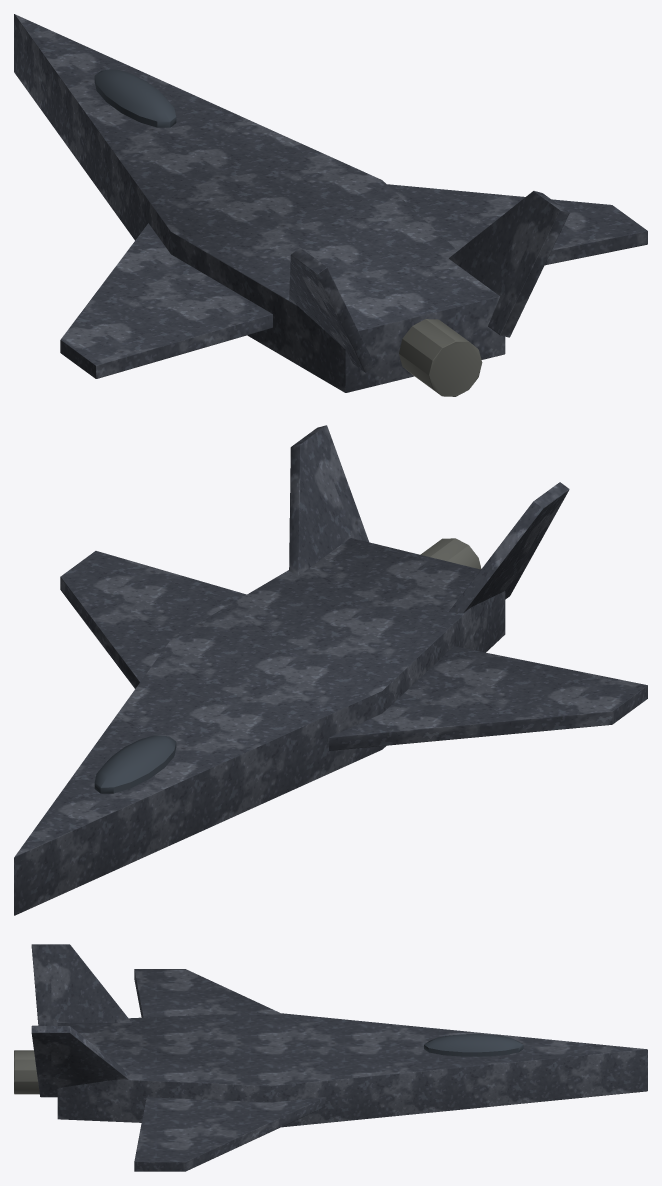
The model's file is air_e4_us_stealth_LOD1.glb.
3 views of the same model, one above another, from view 1: azimuth 30°, elevation 25°; view 2: azimuth 150°, elevation 25°; view 3: azimuth 270°, elevation 25° (orthographic). The views are drawn at different scales.
Visible parts, largest first — view 1: air_e4_us_stealth_LOD1_body, air_e4_us_stealth_LOD1_gun, air_e4_us_stealth_LOD1_glass; view 2: air_e4_us_stealth_LOD1_body, air_e4_us_stealth_LOD1_glass, air_e4_us_stealth_LOD1_gun; view 3: air_e4_us_stealth_LOD1_body, air_e4_us_stealth_LOD1_glass, air_e4_us_stealth_LOD1_gun.
Part boxes in pixels (x1,y1,x2,y2): air_e4_us_stealth_LOD1_body: (14, 14, 647, 392); air_e4_us_stealth_LOD1_gun: (399, 319, 482, 396); air_e4_us_stealth_LOD1_glass: (94, 69, 176, 127); air_e4_us_stealth_LOD1_body: (14, 425, 647, 915); air_e4_us_stealth_LOD1_glass: (94, 735, 176, 793); air_e4_us_stealth_LOD1_gun: (420, 538, 481, 569); air_e4_us_stealth_LOD1_body: (31, 944, 647, 1171); air_e4_us_stealth_LOD1_glass: (424, 1033, 523, 1056); air_e4_us_stealth_LOD1_gun: (14, 1050, 39, 1094).
Size of the model in its own units: 10.7 by 2.77 by 14.82.
Materials: 3 (1 with a texture image).
